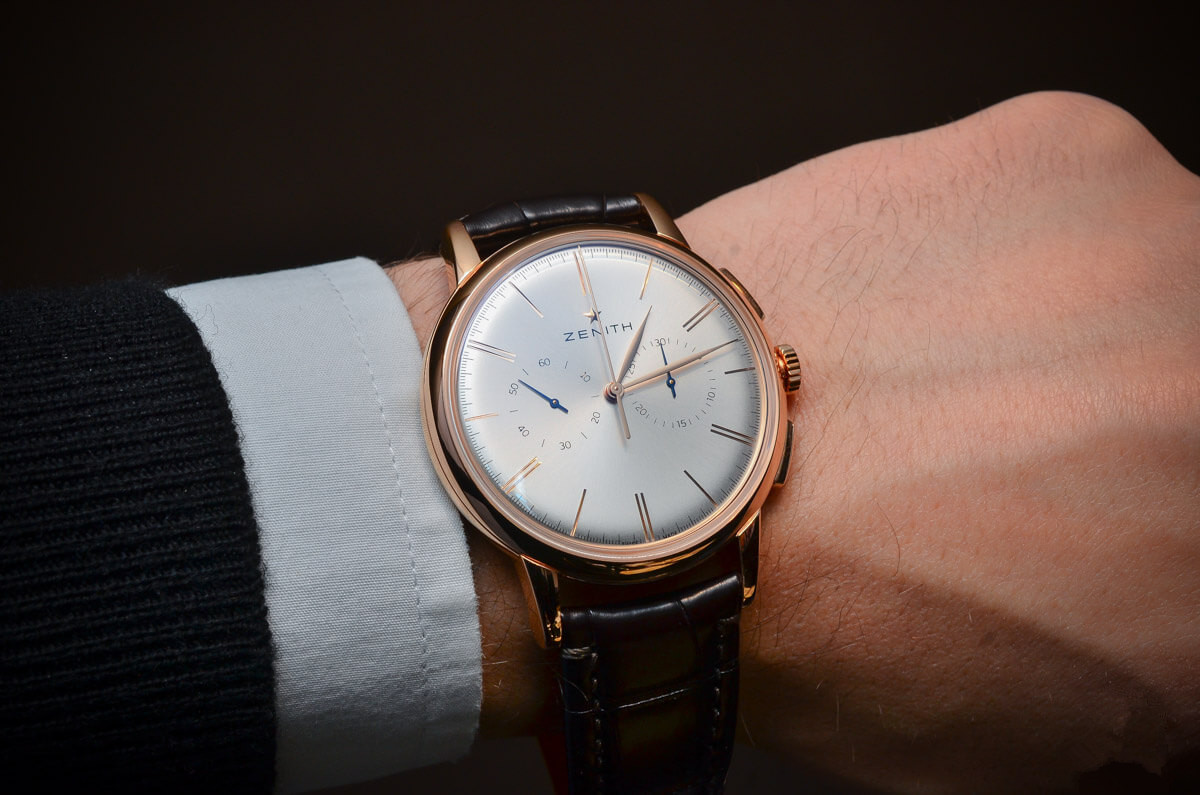clock: (458, 242, 764, 546)
